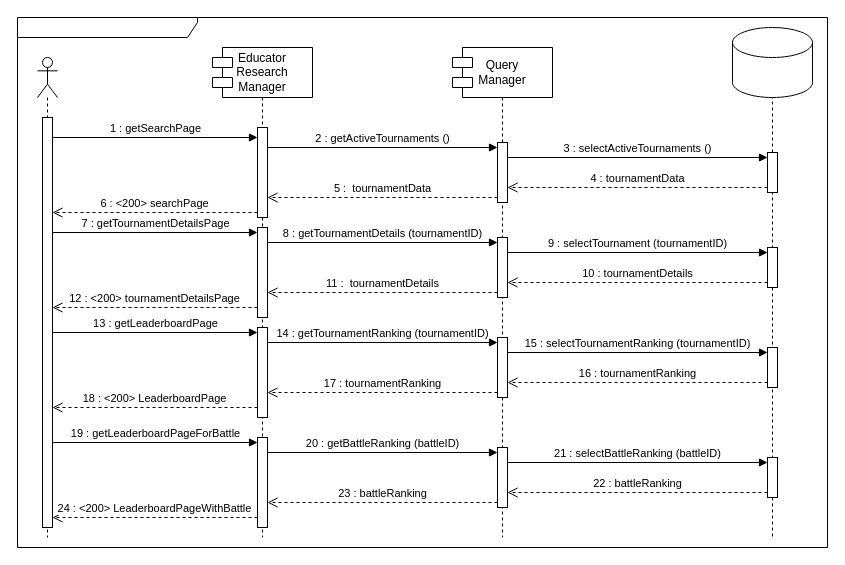
Some shapes in this 845 by 565 pixel diagram are drawn without their labels. Each missing label, with the centre of its shape:
"Database" belongs at (772,62).
"sd Educator battle leaderboard" belongs at (422,282).
